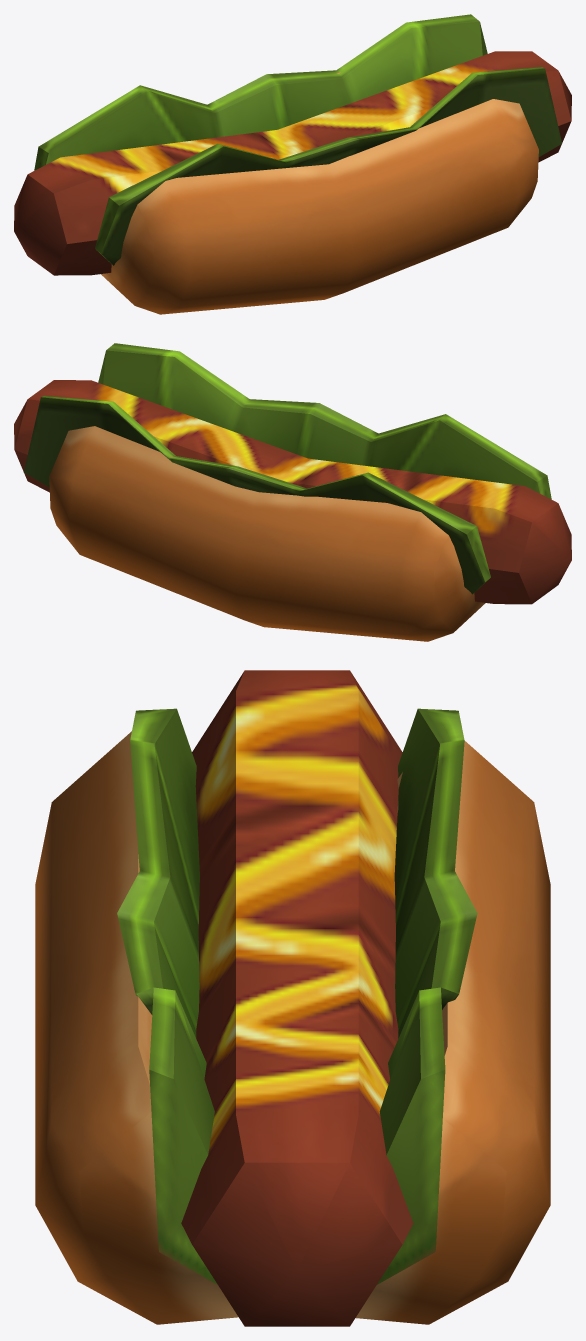
Rendered from hot dog.FBX.
The picture shows the model from 3 angles, top to bottom: view 1: azimuth 30°, elevation 25°; view 2: azimuth 150°, elevation 25°; view 3: azimuth 270°, elevation 25°; orthographic projection. The views are drawn at different scales.
Parts seen in each view (by area): view 1: hot dog; view 2: hot dog; view 3: hot dog.
Boxes of the visible parts, <box> form: hot dog: <box>14,14,571,314</box>; hot dog: <box>14,343,571,641</box>; hot dog: <box>35,670,550,1326</box>.
Size of the model in its own units: 8.17 by 2.63 by 3.27.
